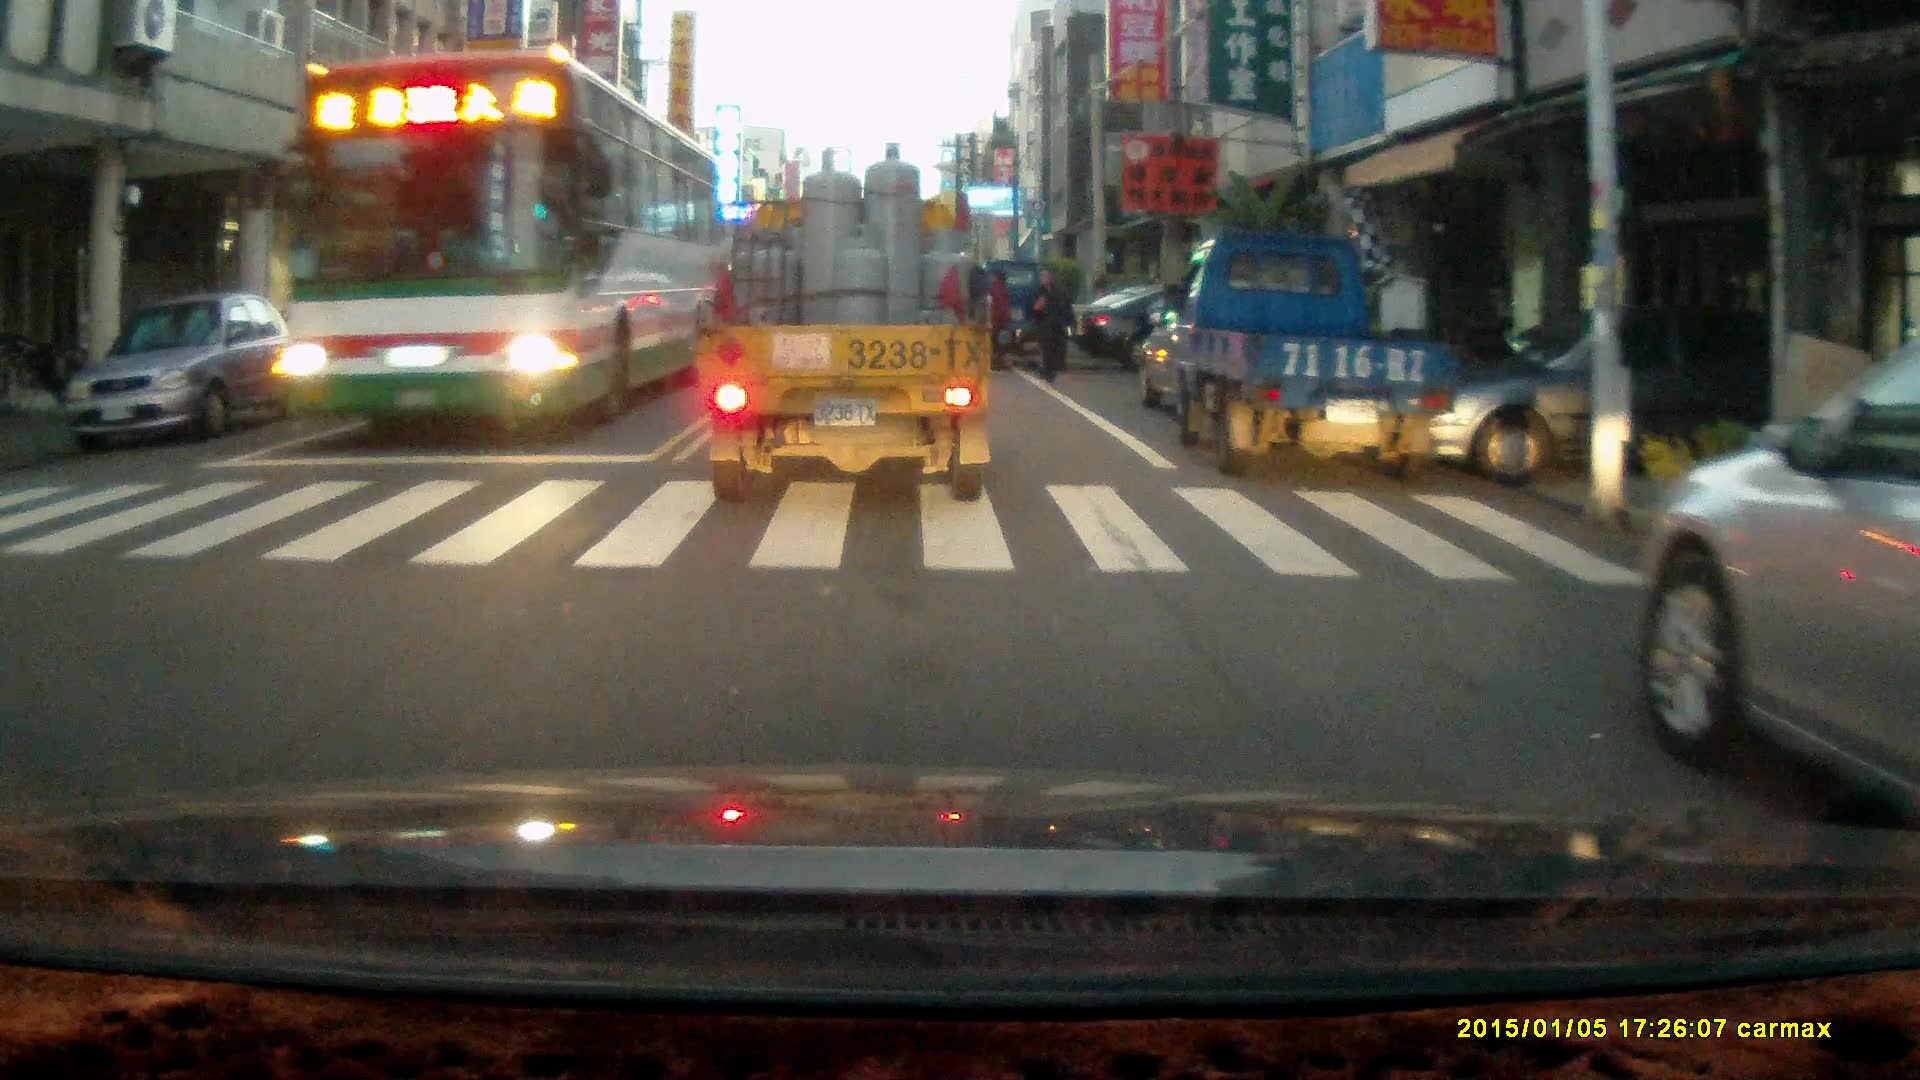pedestrian: (1023, 266, 1075, 383), (981, 263, 1013, 375)
vehicle: (271, 40, 731, 427), (1641, 341, 1920, 843), (695, 139, 998, 505), (1154, 228, 1460, 476), (1439, 330, 1790, 470), (67, 290, 298, 446), (336, 283, 518, 374), (975, 259, 1080, 374)
